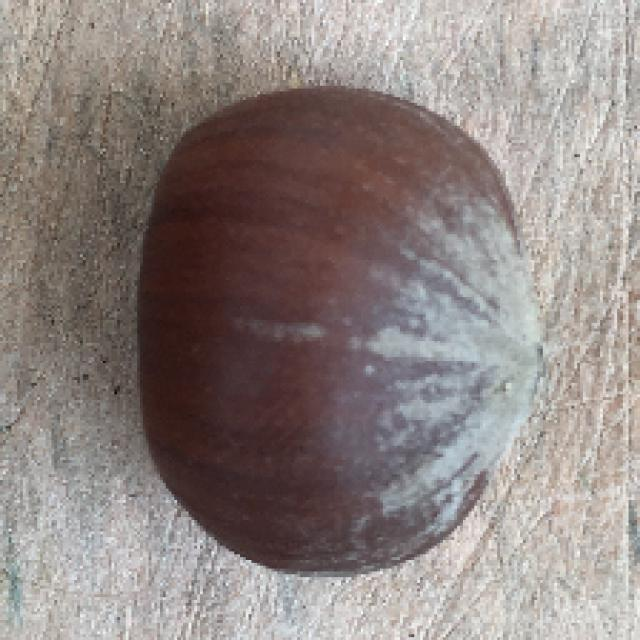damagedHazelnut: (124, 77, 548, 577)
